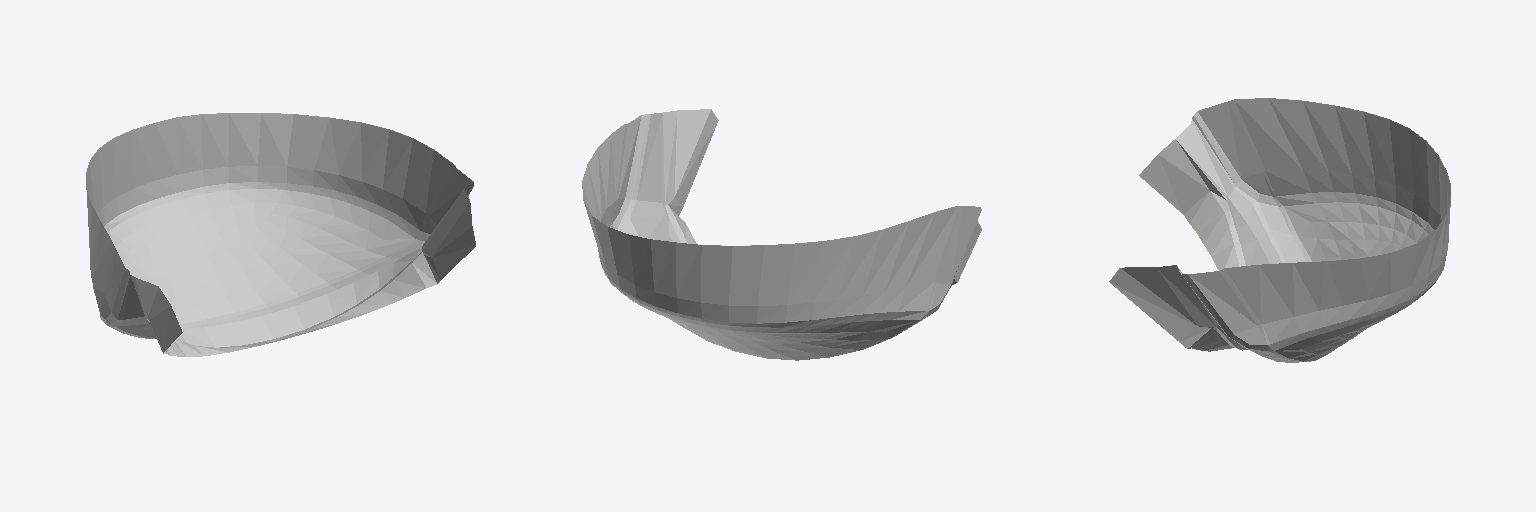
The model's file is R_button_R1.obj.
3 renders of one model, left to right at view 1: azimuth 30°, elevation 25°; view 2: azimuth 150°, elevation 25°; view 3: azimuth 270°, elevation 25°, orthographic.
Parts seen in each view (by area): view 1: R_button_R1 Ctrl_R; view 2: R_button_R1 Ctrl_R; view 3: R_button_R1 Ctrl_R.
Boxes of the visible parts, x1=… form: R_button_R1 Ctrl_R: x1=86, y1=113, x2=475, y2=356; R_button_R1 Ctrl_R: x1=582, y1=109, x2=981, y2=360; R_button_R1 Ctrl_R: x1=1109, y1=98, x2=1450, y2=362.
Size of the model in its own units: 0.0298 by 0.0136 by 0.0256.